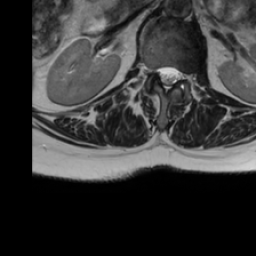CCS_normal: (163, 60, 171, 99)
LFS_stenosis: (180, 61, 189, 87)
LLS_normal: (171, 60, 180, 92)
RFS_stenosis: (147, 57, 155, 81)
RLS_normal: (155, 59, 163, 85)
